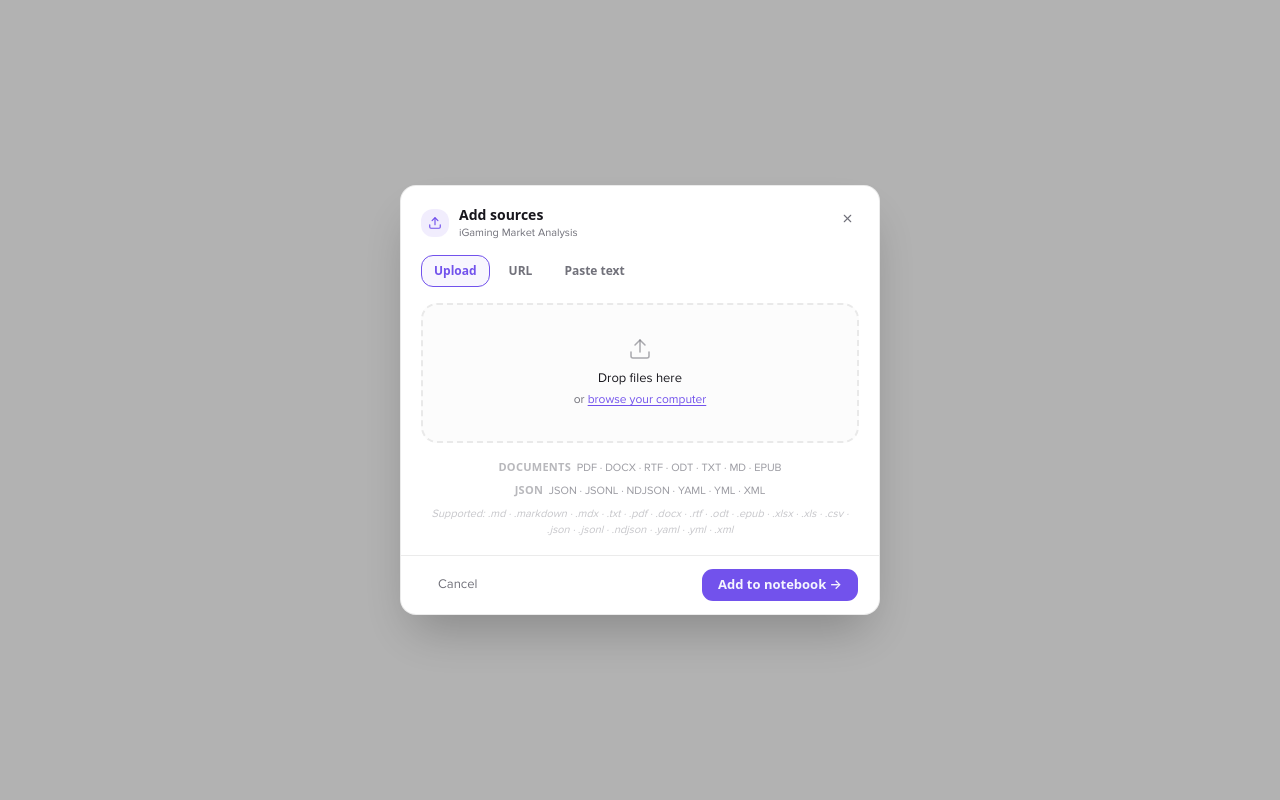
Scenario: AddSourcesModal › clicking Paste text tab switches to paste panel
The image size is (1280, 800).
What coordinates should you click on to do the following:
click the tab "Paste text"
I would click on:
 (595, 271)
Its box is 551,255 -> 638,287.
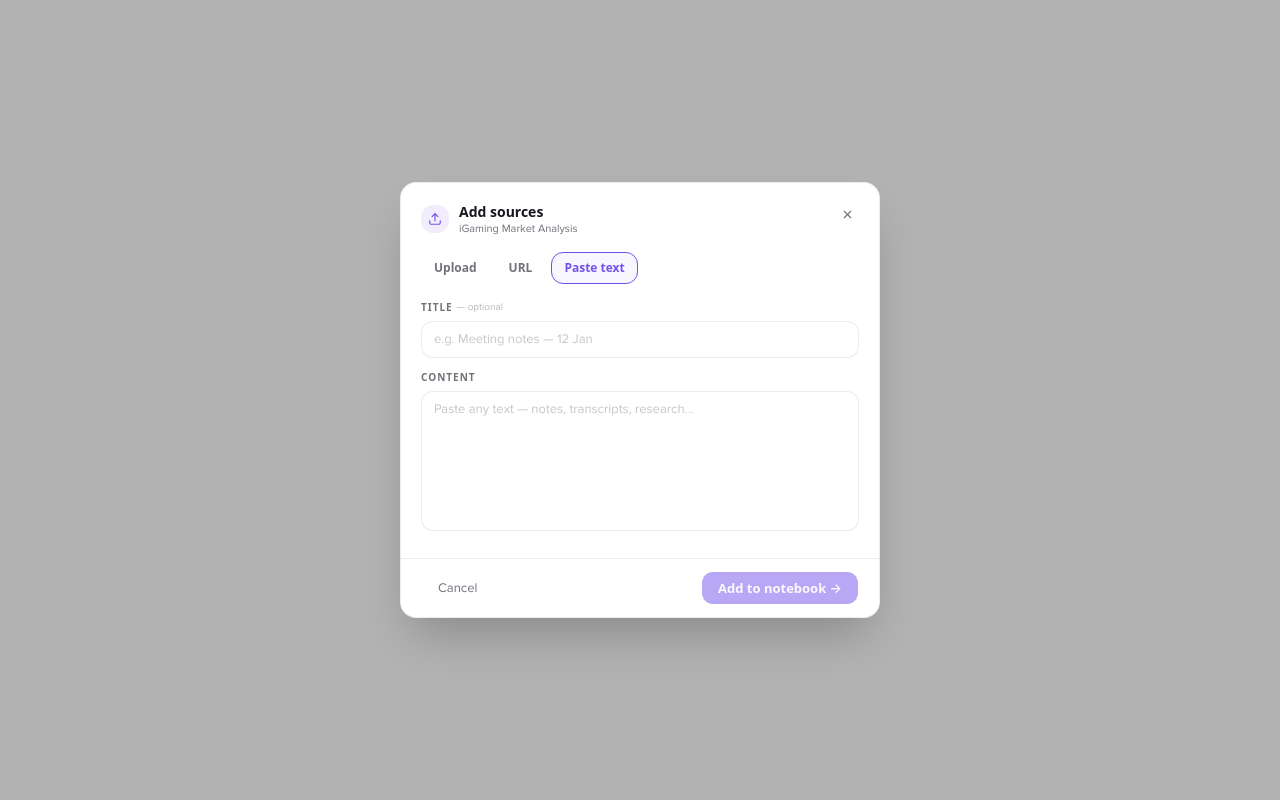
Now the text box labelled "Content" is shown, box 421,391 -> 859,531
